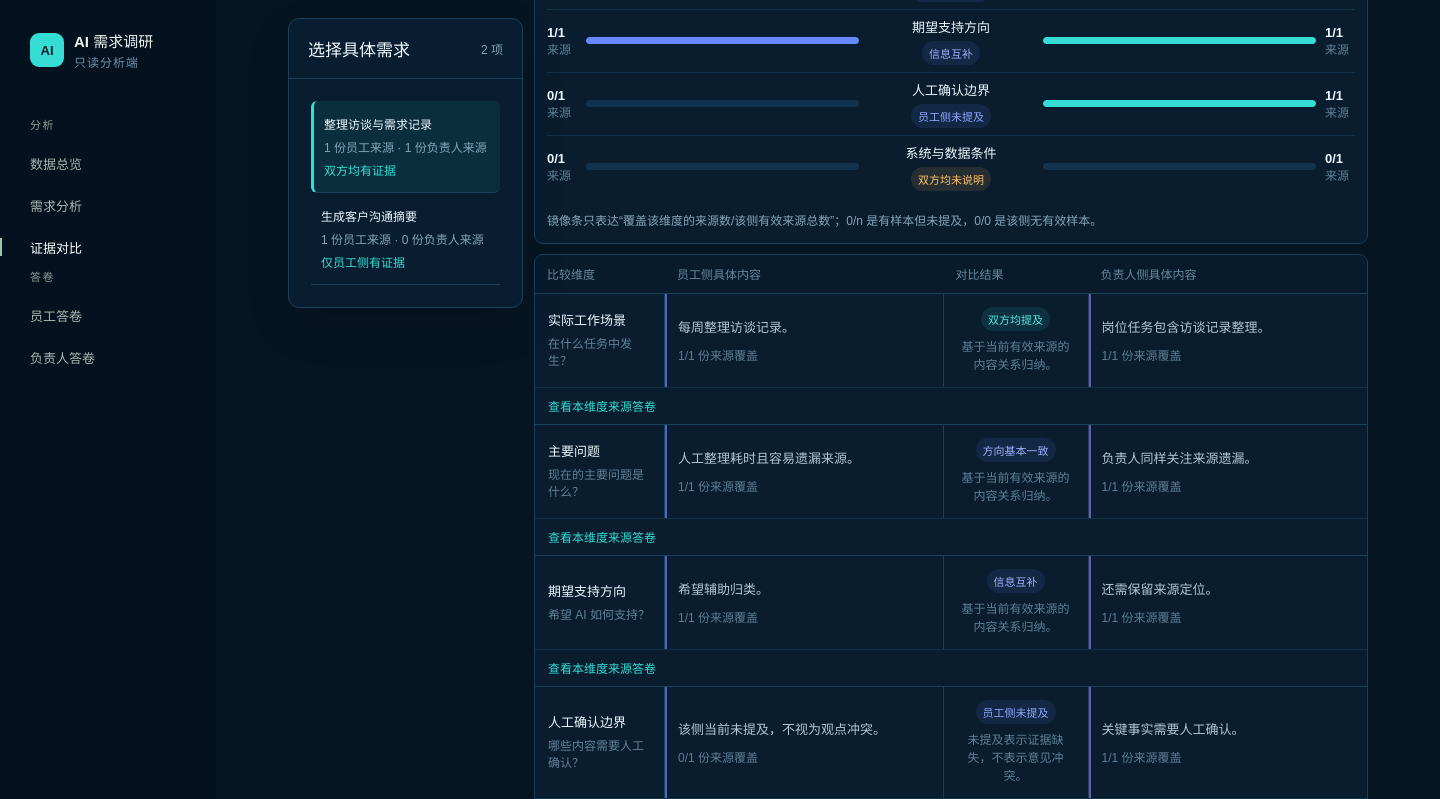
Test case: D3 将未提及显示为证据缺失而非冲突，并可进入 D2 与来源答卷
(page scrolled)
Expected: the text "未提及表示证据缺失，不表示意见冲突。" is shown, [968,733,1064,783]
Click the heading "查看本维度来源答卷" below "在什么任务中发生？": x=602, y=407 [548,400,656,414]
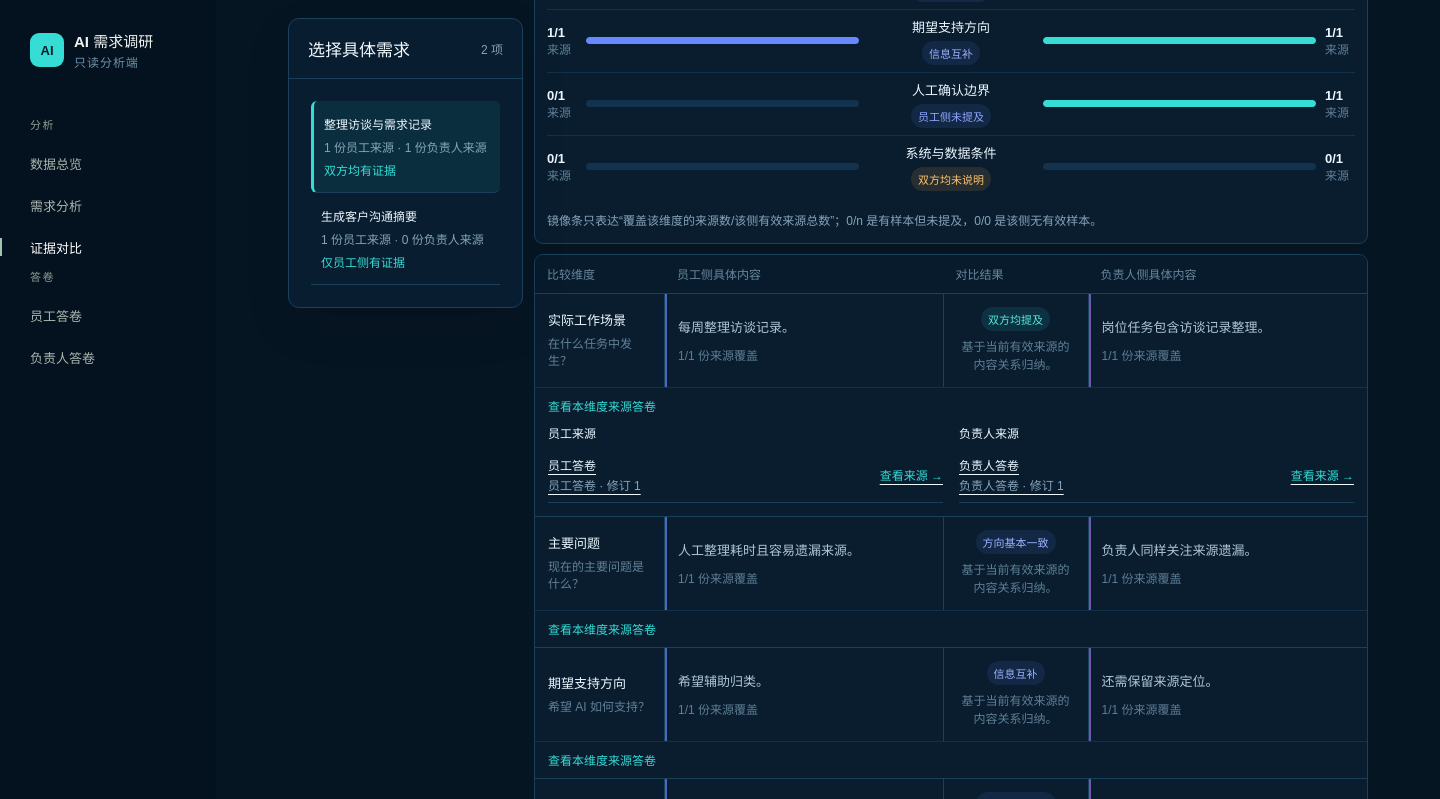
Expected: the link "员工答卷 员工答卷 · 修订 1 查看来源 →" is shown, [548,447,943,503]
